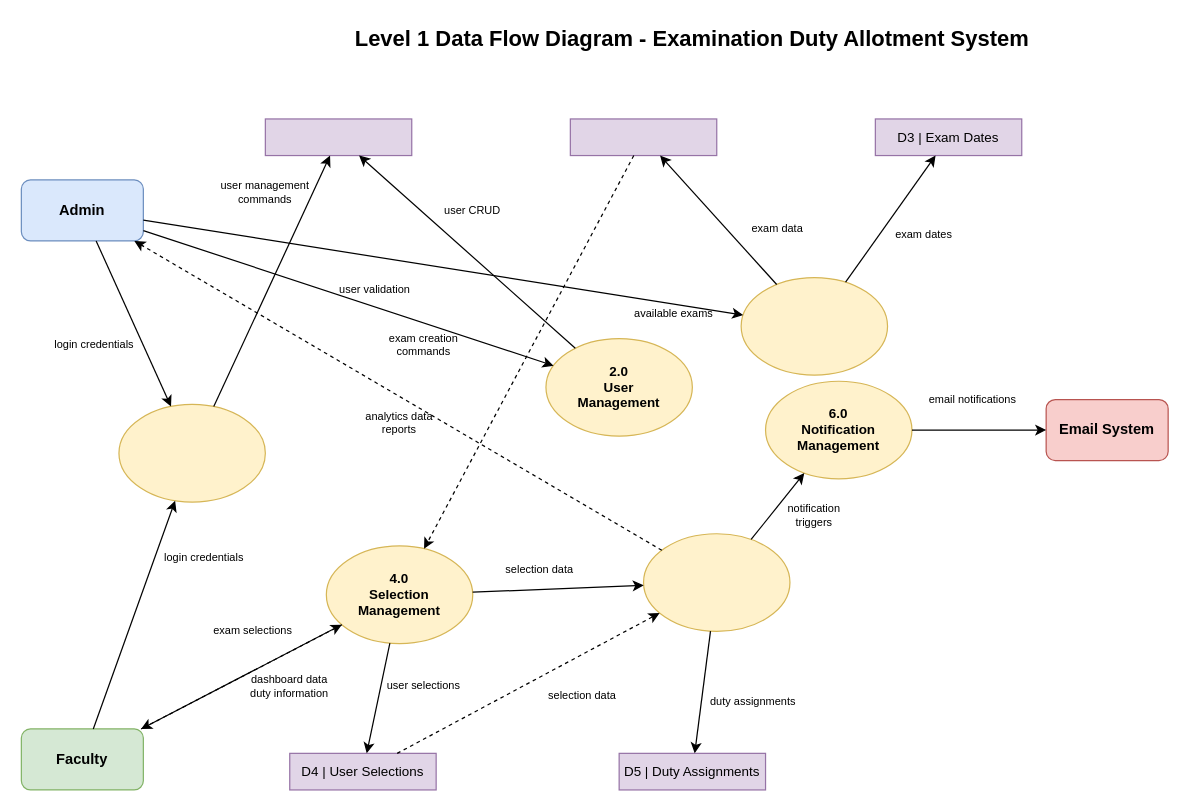
This 1190x811 diagram has some shape labels left out. The box of each missing label's shape, as (x1, y1, x2, y2) in pixels:
1.0 Authentication Management: (118, 403, 265, 502)
3.0 Exam Management: (740, 276, 888, 375)
5.0 Duty Assignment & Analytics: (642, 533, 790, 631)
D1 | Users: (264, 118, 412, 156)
D2 | Exams: (569, 118, 717, 156)
